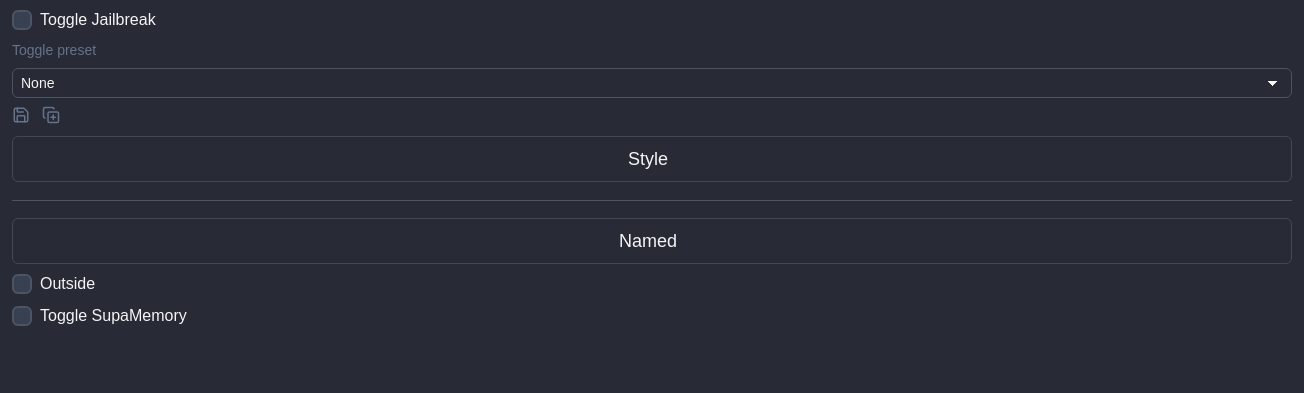
Test: nests rows between keyless group and groupEnd lines and closes a named group at ==groupEnd
Expected: the button "Named" is shown, [12,218,1292,264]
Expected: the checkbox labelled "Outside" is shown, [12,272,95,296]
Click the button "Style" at (652, 159), box [12,136,1292,182]
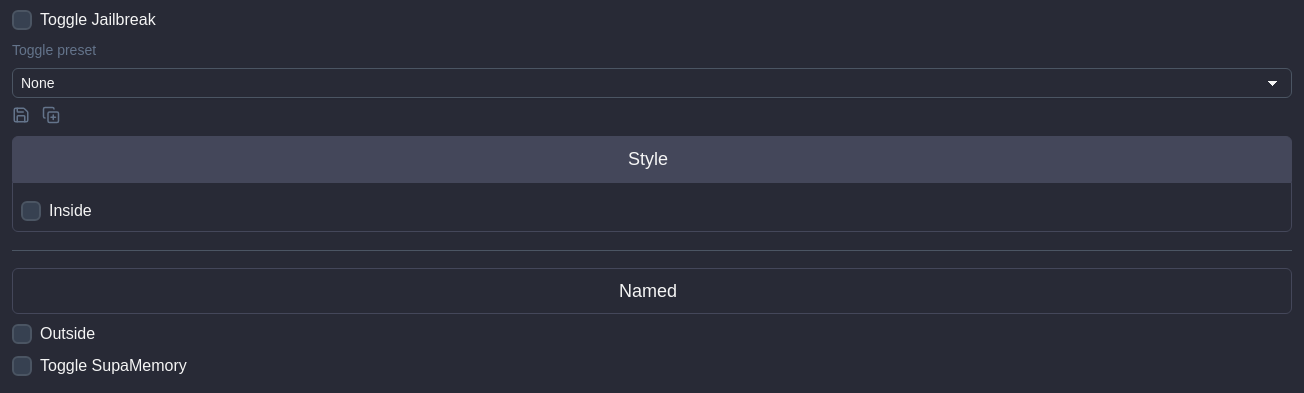
Result: the checkbox labelled "Inside" is shown at [21,199,92,223]
